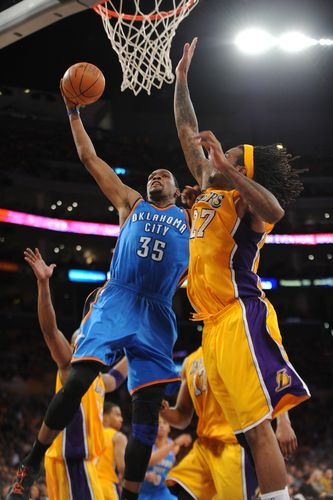ball: (61, 60, 107, 107)
